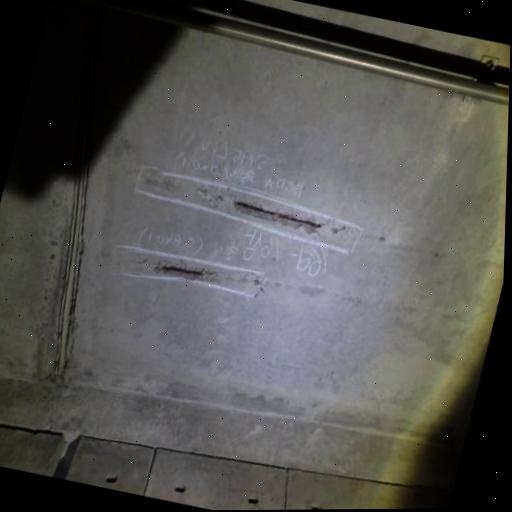exposed_rebar: (235, 201, 321, 226), (160, 264, 203, 276)
